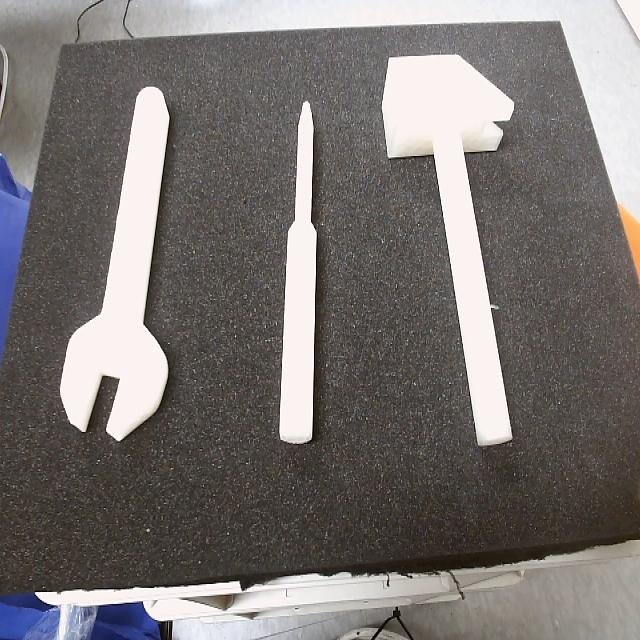Driver: (278, 103, 321, 448)
Hammer: (382, 56, 515, 449)
Spanner: (59, 87, 170, 444)
